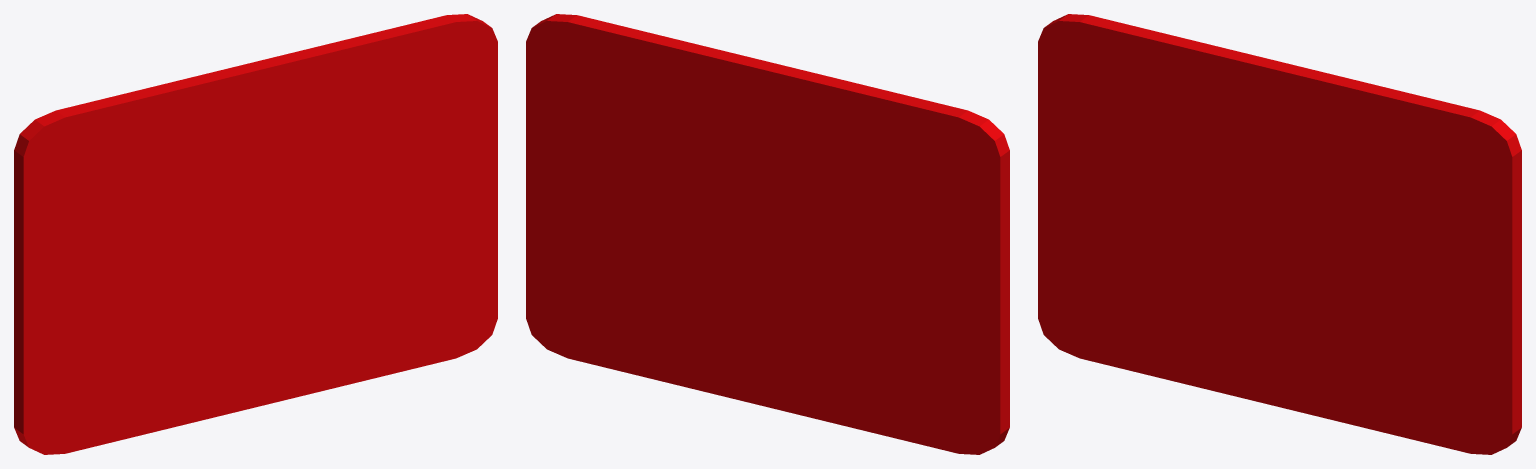
File: CardRed.fbx
3 renders of one model, left to right at view 1: azimuth 30°, elevation 25°; view 2: azimuth 150°, elevation 25°; view 3: azimuth 330°, elevation 25°, orthographic.
Visible parts, largest first — view 1: Card2; view 2: Card2; view 3: Card2.
Part boxes in pixels (left/top/right/bottom): Card2: left=14, top=14, right=497, bottom=454; Card2: left=526, top=14, right=1009, bottom=454; Card2: left=1038, top=14, right=1521, bottom=454.
Bounding box in the file's own units: 38.35 × 25.99 × 1.33.
